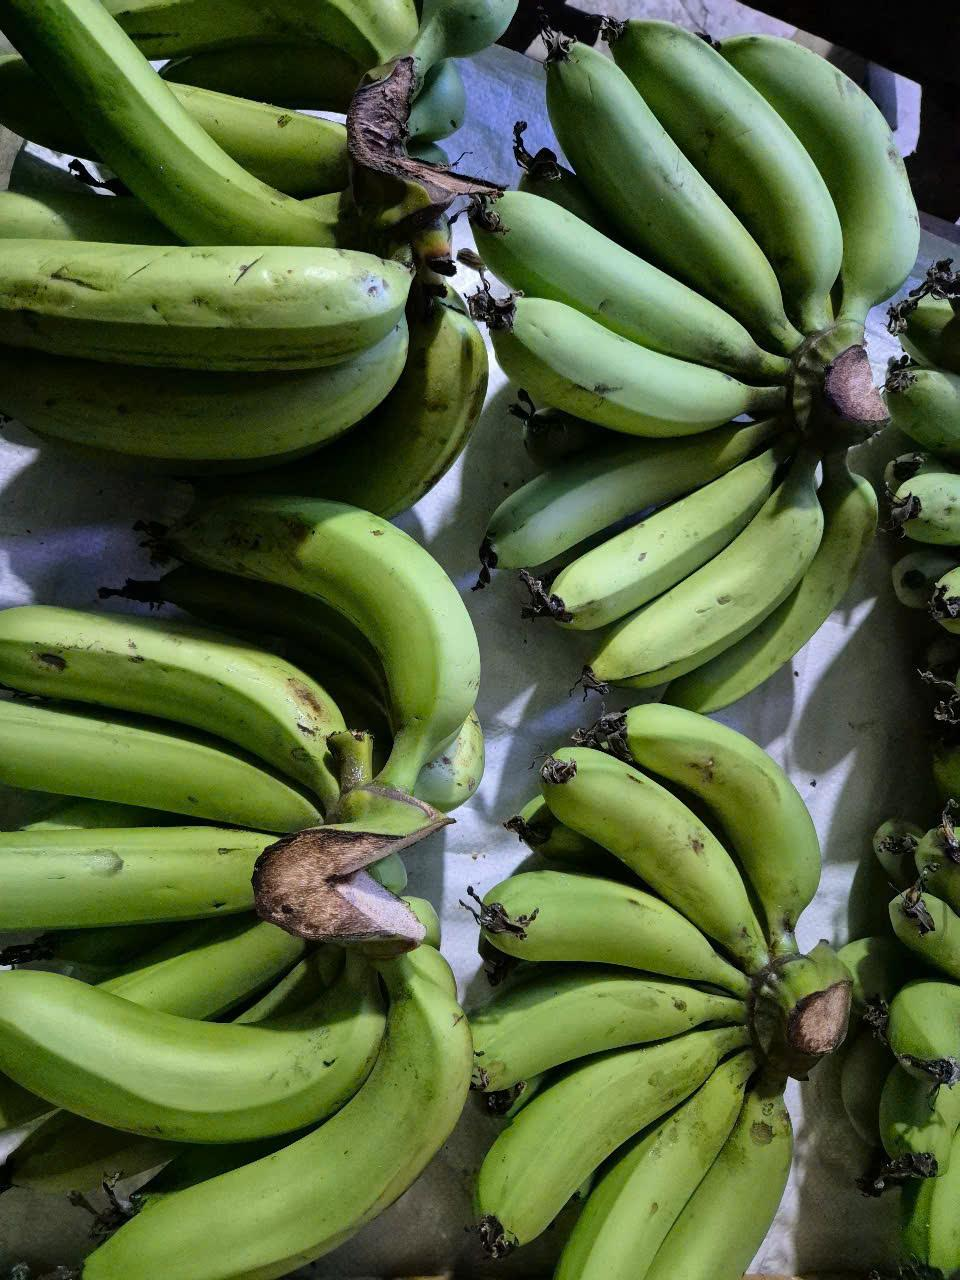banana: (493, 0, 901, 683), (490, 690, 827, 1280), (0, 887, 468, 1280), (10, 482, 490, 849), (7, 220, 497, 505), (0, 0, 485, 246)
